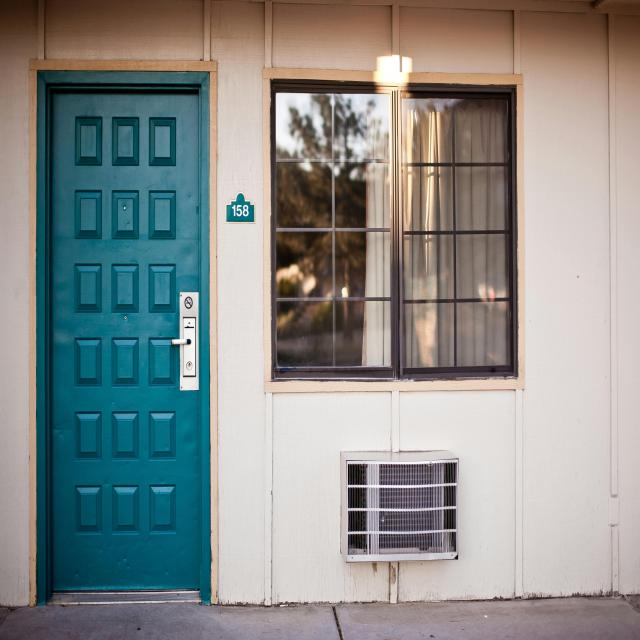door-handle: (171, 339, 191, 345)
